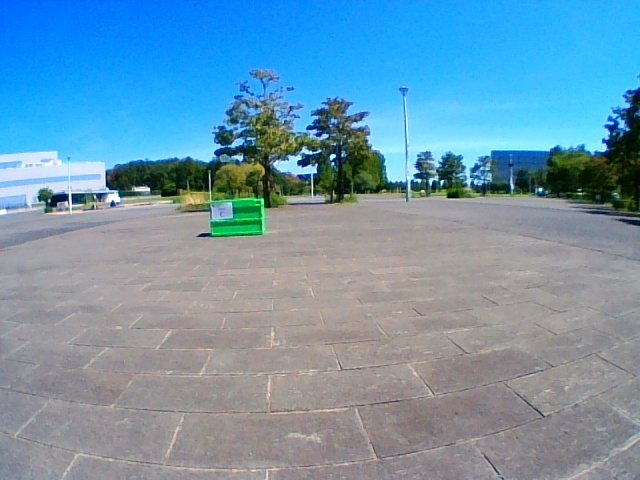green_box: (210, 198, 264, 237)
tag: (212, 203, 231, 218)
